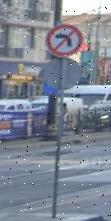leftturnsareforbidden: (47, 25, 82, 56)
